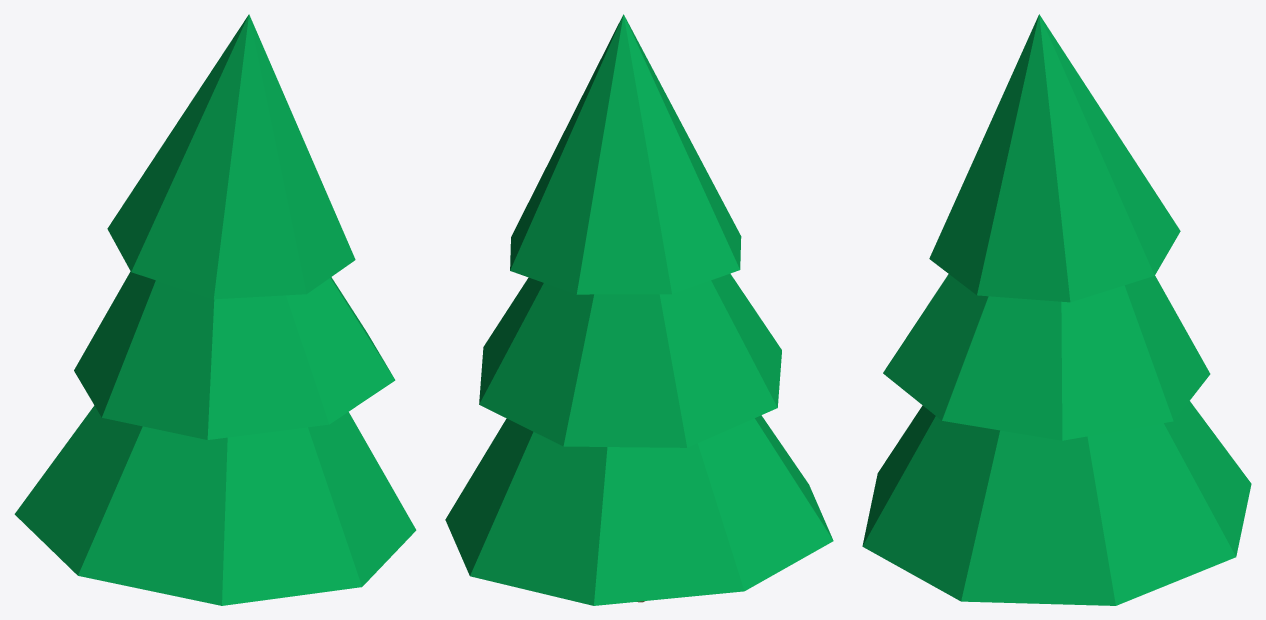
The model's file is jelka.fbx.
3 views of the same model, side by side, from view 1: azimuth 30°, elevation 25°; view 2: azimuth 150°, elevation 25°; view 3: azimuth 270°, elevation 25° (orthographic).
Visible parts, largest first — view 1: jelka, Cone_2, Cone_1; view 2: jelka, Cone_1, Cone_2; view 3: jelka, Cone_2, Cone_1.
Part boxes in pixels (x1,y1,x2,y2): jelka: (14, 405, 416, 605); Cone_2: (107, 14, 355, 299); Cone_1: (74, 271, 395, 439); jelka: (445, 415, 833, 605); Cone_1: (479, 273, 781, 447); Cone_2: (510, 14, 741, 294); jelka: (862, 401, 1251, 605); Cone_2: (929, 14, 1180, 302); Cone_1: (883, 274, 1210, 440).
Size of the model in its own units: 595 by 983 by 596.
